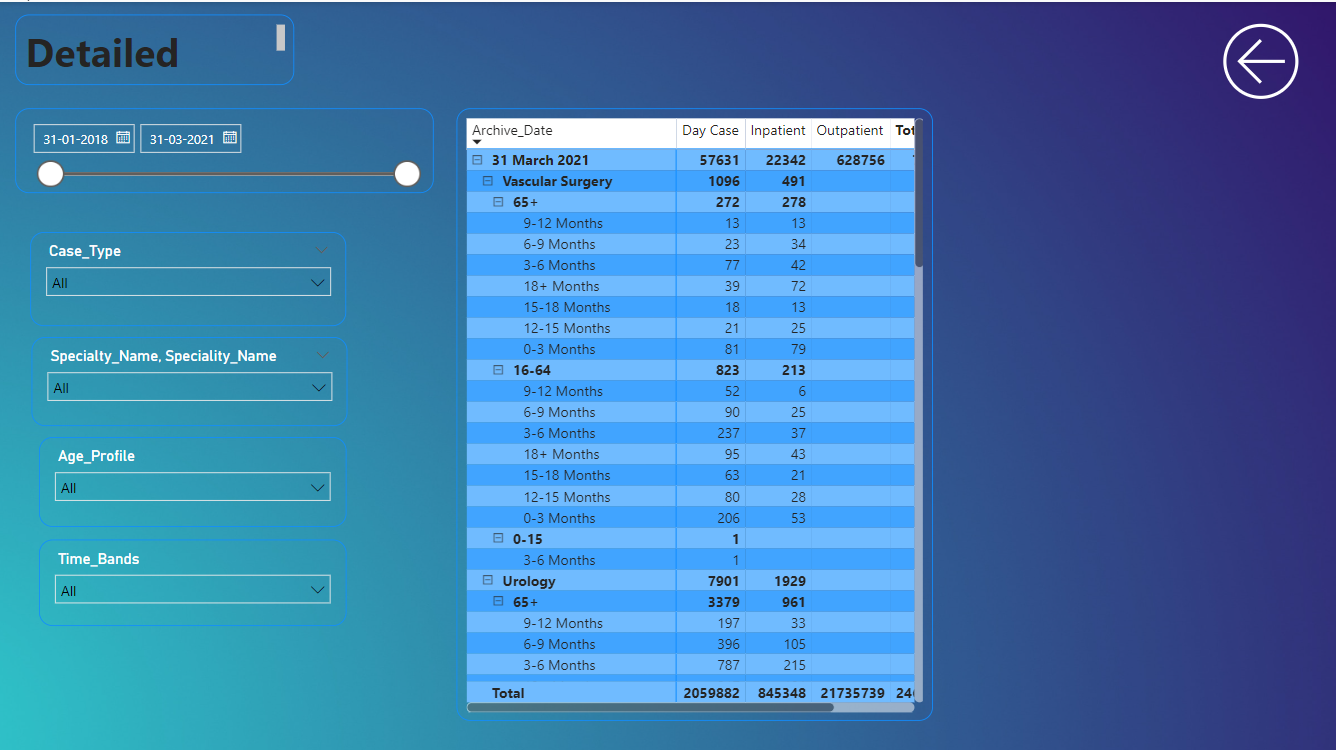

What the dashboard file says about the page in this screenshot:
{"tool":"powerbi","page":{"name":"detail","canvas":[1280,720],"ordinal":1},"visuals":[{"type":"slicer","fields":{"Values":["All_data.Case_Type"]},"box":[20.5,194.2,136.3,60.3],"z":0},{"type":"slicer","fields":{"Values":["All_data.Speciality_Name"]},"box":[20.5,282.2,162.8,61.5],"z":1},{"type":"slicer","fields":{"Values":["All_data.Archive_Date"]},"box":[20.5,76,398,80.8],"z":2},{"type":"textbox","box":[20.5,12.1,265.3,67.5],"z":3},{"type":"slicer","fields":{"Values":["All_data.Age_Profile"]},"box":[20.5,360.6,162.8,61.5],"z":4},{"type":"slicer","fields":{"Values":["All_data.Time_Bands"]},"box":[20.5,449.8,162.8,61.5],"z":5},{"type":"pivotTable","fields":{"Rows":["All_data.Archive_Date","All_data.Specialty_Name","All_data.Age_Profile","All_data.Time_Bands"],"Columns":["All_data.Case_Type"],"Values":["Sum(All_data.Total)"]},"box":[219.1,166.6,635.6,385.7],"z":6}]}

Visuals, with their boxes in screenshot pixels (x1, y1, x2, y2), scaled from the page's 1280x720 canvas onto the 1336x750 screenshot:
slicer - All_data.Case_Type: bbox(21, 202, 164, 265)
slicer - All_data.Speciality_Name: bbox(21, 294, 191, 358)
slicer - All_data.Archive_Date: bbox(21, 79, 437, 163)
textbox: bbox(21, 13, 298, 83)
slicer - All_data.Age_Profile: bbox(21, 376, 191, 440)
slicer - All_data.Time_Bands: bbox(21, 469, 191, 533)
pivotTable - All_data.Archive_Date x All_data.Specialty_Name: bbox(229, 174, 892, 575)
